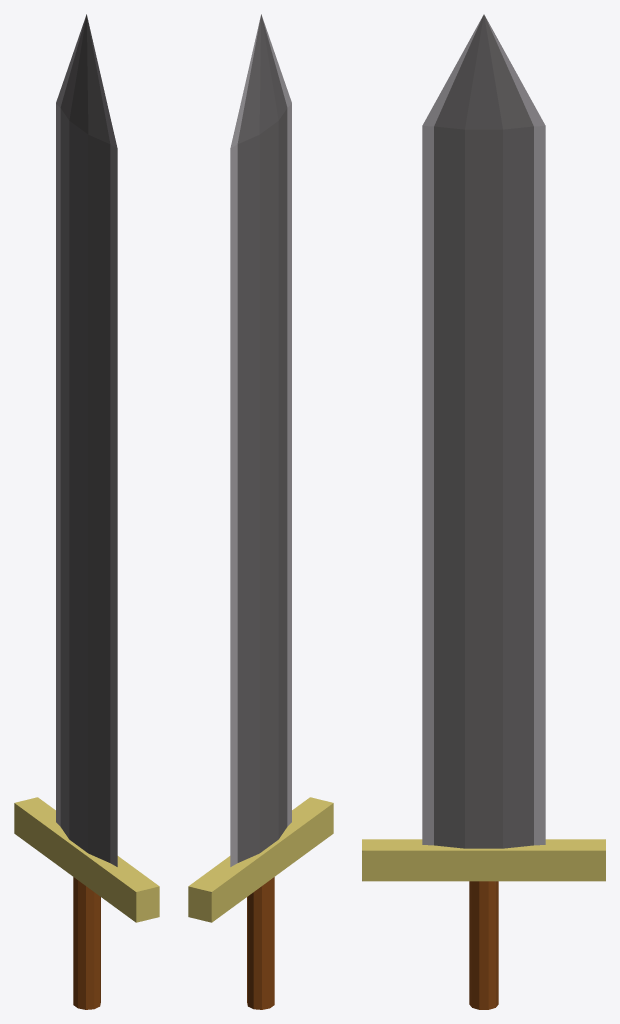
Rendered from GreatSword (3).fbx.
3 renders of one model, left to right at view 1: azimuth 30°, elevation 25°; view 2: azimuth 150°, elevation 25°; view 3: azimuth 270°, elevation 25°, orthographic.
Parts seen in each view (by area): view 1: Cube; view 2: Cube; view 3: Cube.
Boxes of the visible parts, x1=… form: Cube: x1=14, y1=14, x2=159, y2=1009; Cube: x1=188, y1=14, x2=333, y2=1009; Cube: x1=362, y1=14, x2=605, y2=1009.
Size of the model in its own units: 43.97 by 1771 by 395.
2 materials, 2 textured.
